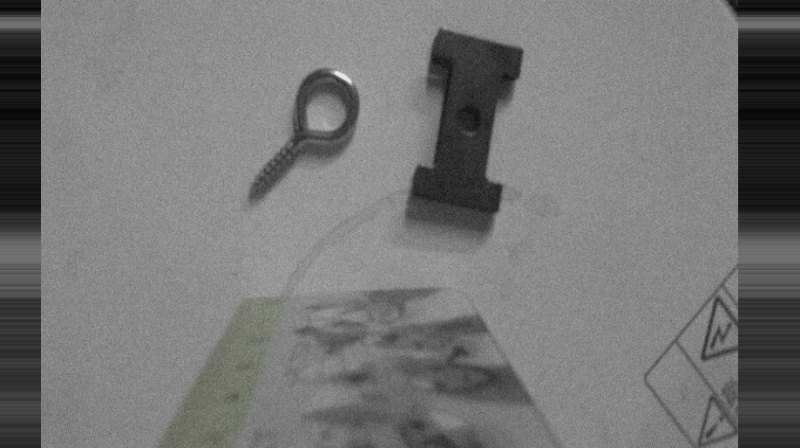O001: (242, 64, 362, 208)
O002: (404, 27, 525, 213)
